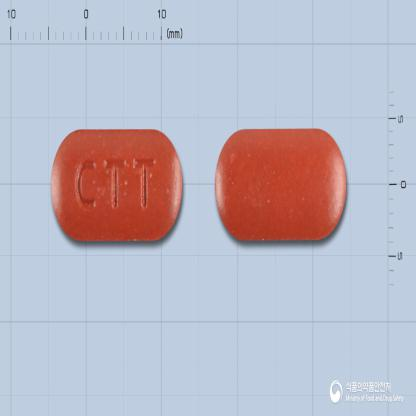pill: (214, 125, 348, 243), (49, 128, 184, 242)
